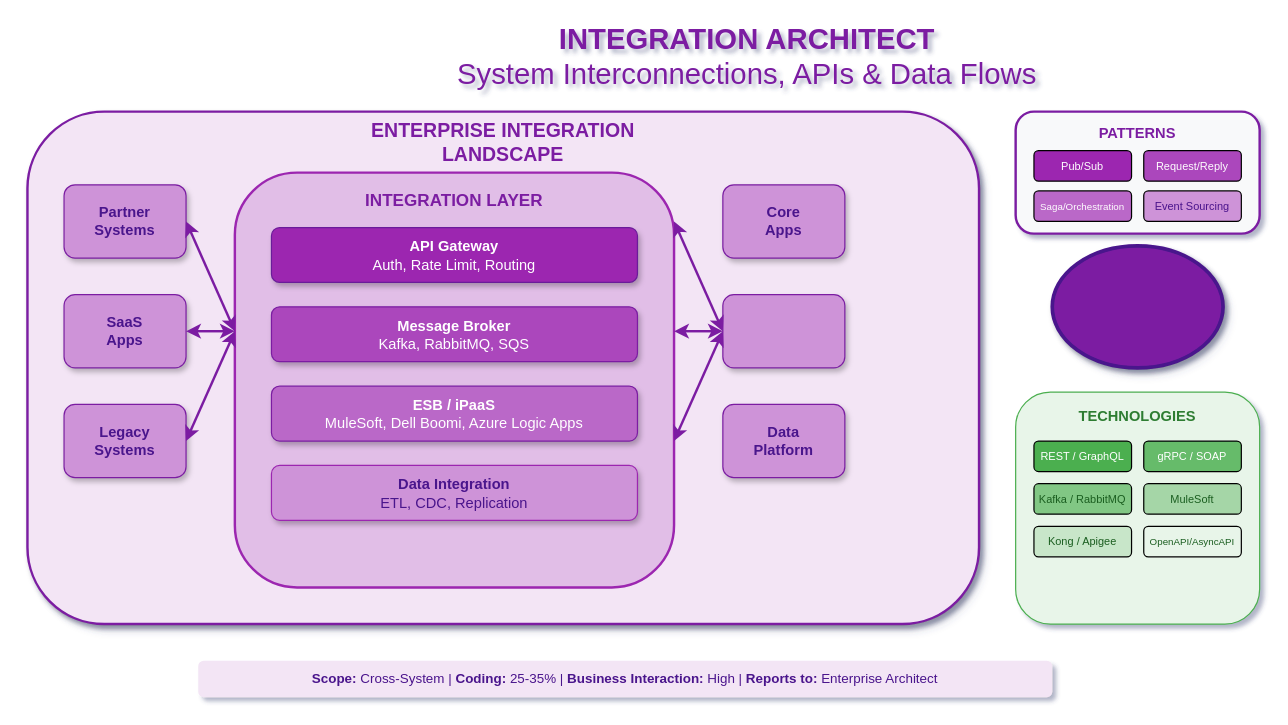
The diagram is 1288 pixels wide and 725 high, and some of its shapes have lost their labels. Each missing label, with the centre of its shape:
INTEGRATION ARCHITECT Design • Connect Transform • Govern: the point at 1138,308
Micro- services: the point at 784,332
